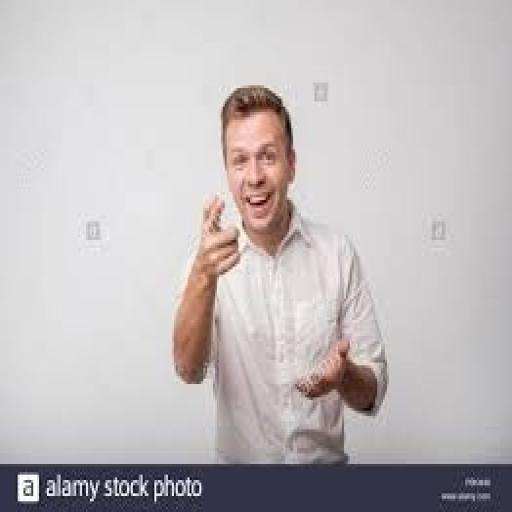laughing: (162, 72, 395, 464)
